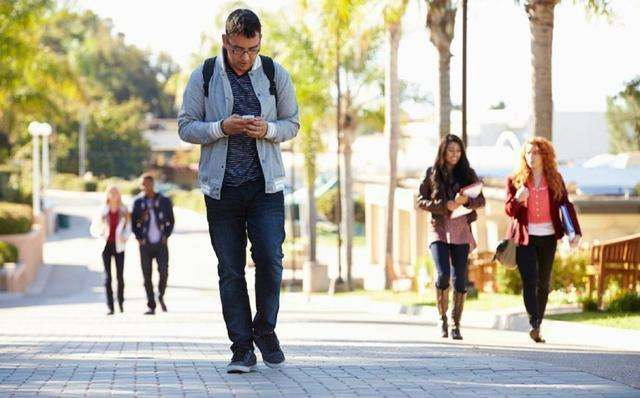reading: (222, 111, 266, 140)
